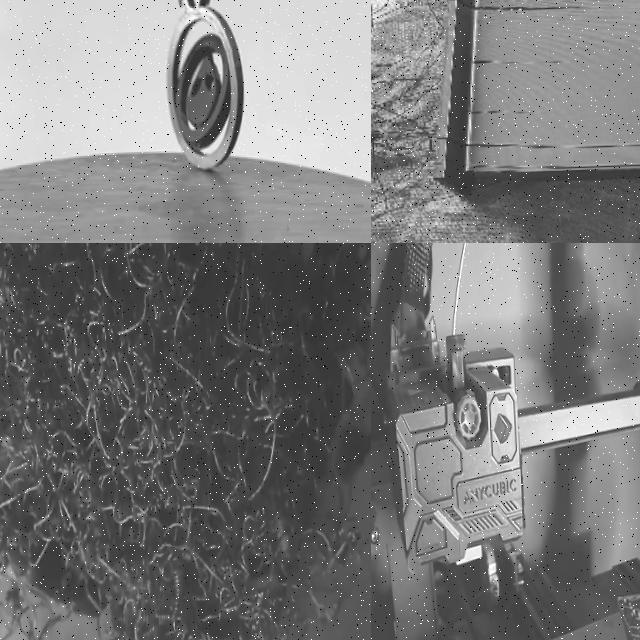spaghetti: (0, 243, 371, 640), (371, 0, 441, 243)
